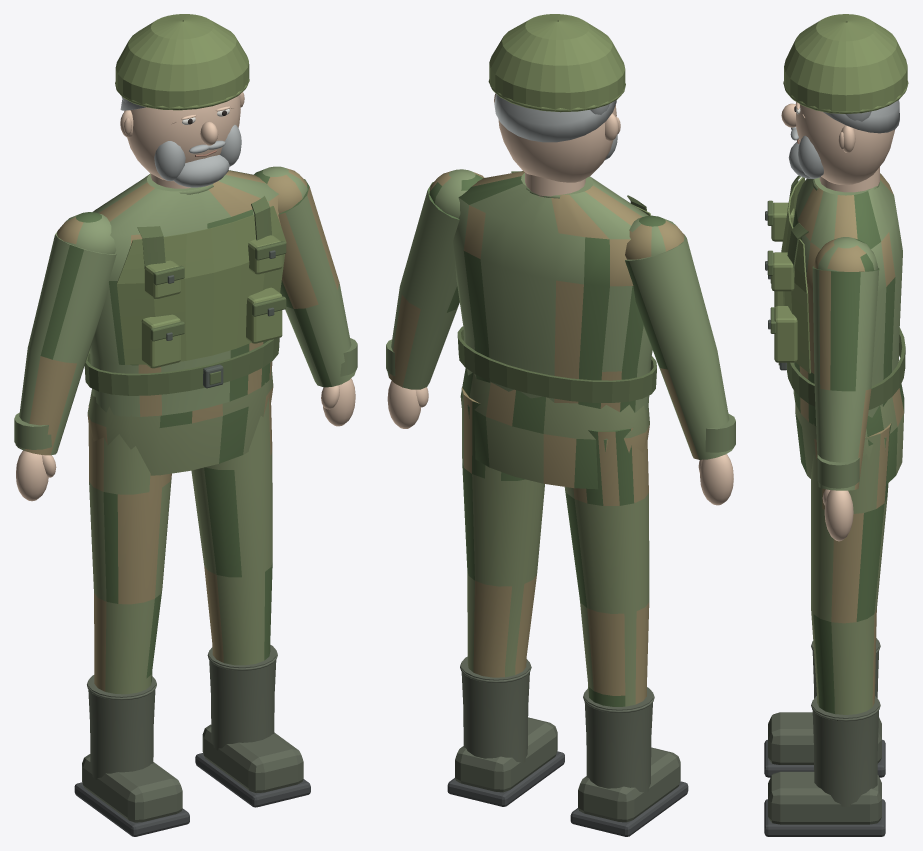
The model's file is soldier_woodland_3.glb.
The picture shows the model from 3 angles, left to right: view 1: azimuth 30°, elevation 25°; view 2: azimuth 150°, elevation 25°; view 3: azimuth 270°, elevation 25°; orthographic projection.
Parts seen in each view (by area): view 1: Woodland_Soldier_3_Trouser_Leg, Woodland_Soldier_3_Trouser_Leg.001, Woodland_Soldier_3_Torso_And_Main_Clothes, Woodland_Soldier_3_Fitted_Field_Vest, Woodland_Soldier_3_Long_Sleeve, Woodland_Soldier_3_Open_Face_Helmet, Woodland_Soldier_3_Connected_Hip_Garment, Woodland_Soldier_3_Long_Sleeve.001, Woodland_Soldier_3_High_Boot_Shaft, Woodland_Soldier_3_High_Boot_Shaft.001, Woodland_Soldier_3_Head, Woodland_Soldier_3_Shoe_Upper.001 (+17 smaller); view 2: Woodland_Soldier_3_Torso_And_Main_Clothes, Woodland_Soldier_3_Trouser_Leg, Woodland_Soldier_3_Trouser_Leg.001, Woodland_Soldier_3_Connected_Hip_Garment, Woodland_Soldier_3_Long_Sleeve, Woodland_Soldier_3_Open_Face_Helmet, Woodland_Soldier_3_Long_Sleeve.001, Woodland_Soldier_3_High_Boot_Shaft, Woodland_Soldier_3_High_Boot_Shaft.001, Woodland_Soldier_3_Waist_Belt, Woodland_Soldier_3_Head, Woodland_Soldier_3_Shoe_Upper.001 (+10 smaller); view 3: Woodland_Soldier_3_Trouser_Leg.001, Woodland_Soldier_3_Long_Sleeve.001, Woodland_Soldier_3_Torso_And_Main_Clothes, Woodland_Soldier_3_Open_Face_Helmet, Woodland_Soldier_3_High_Boot_Shaft.001, Woodland_Soldier_3_Shoe_Upper.001, Woodland_Soldier_3_Head, Woodland_Soldier_3_Connected_Hip_Garment, Woodland_Soldier_3_Shoe_Upper, Woodland_Soldier_3_Fitted_Field_Vest, Woodland_Soldier_3_Shoe_Sole.001, Woodland_Soldier_3_Rounded_Shoulder_Cloth.001 (+16 smaller).
Boxes of the visible parts, box(x1,y1,x2,y2) form: Woodland_Soldier_3_Trouser_Leg: box(88, 405, 171, 694); Woodland_Soldier_3_Trouser_Leg.001: box(191, 397, 272, 665); Woodland_Soldier_3_Torso_And_Main_Clothes: box(89, 170, 280, 416); Woodland_Soldier_3_Fitted_Field_Vest: box(117, 206, 286, 364); Woodland_Soldier_3_Long_Sleeve: box(15, 232, 116, 455); Woodland_Soldier_3_Open_Face_Helmet: box(115, 14, 249, 109); Woodland_Soldier_3_Connected_Hip_Garment: box(87, 368, 273, 475); Woodland_Soldier_3_Long_Sleeve.001: box(278, 179, 355, 387); Woodland_Soldier_3_High_Boot_Shaft: box(88, 675, 155, 779); Woodland_Soldier_3_High_Boot_Shaft.001: box(209, 645, 276, 750); Woodland_Soldier_3_Head: box(124, 95, 240, 181); Woodland_Soldier_3_Shoe_Upper.001: box(202, 724, 303, 792); Woodland_Soldier_3_Torso_And_Main_Clothes: box(453, 171, 652, 412); Woodland_Soldier_3_Trouser_Leg: box(564, 427, 649, 706); Woodland_Soldier_3_Trouser_Leg.001: box(461, 387, 544, 677); Woodland_Soldier_3_Connected_Hip_Garment: box(460, 368, 649, 489); Woodland_Soldier_3_Long_Sleeve: box(625, 234, 733, 459); Woodland_Soldier_3_Open_Face_Helmet: box(489, 14, 625, 110); Woodland_Soldier_3_Long_Sleeve.001: box(387, 182, 459, 389); Woodland_Soldier_3_High_Boot_Shaft: box(584, 687, 653, 794); Woodland_Soldier_3_High_Boot_Shaft.001: box(461, 656, 530, 764); Woodland_Soldier_3_Waist_Belt: box(457, 326, 656, 402); Woodland_Soldier_3_Head: box(498, 105, 616, 182); Woodland_Soldier_3_Shoe_Upper.001: box(455, 717, 557, 792); Woodland_Soldier_3_Trouser_Leg.001: box(811, 423, 891, 714); Woodland_Soldier_3_Long_Sleeve.001: box(812, 266, 879, 490); Woodland_Soldier_3_Torso_And_Main_Clothes: box(792, 173, 902, 426); Woodland_Soldier_3_Open_Face_Helmet: box(784, 14, 907, 112); Woodland_Soldier_3_High_Boot_Shaft.001: box(812, 696, 879, 806); Woodland_Soldier_3_Shoe_Upper.001: box(768, 771, 881, 824); Woodland_Soldier_3_Head: box(795, 102, 895, 185); Woodland_Soldier_3_Connected_Hip_Garment: box(795, 384, 904, 484); Woodland_Soldier_3_Shoe_Upper: box(768, 712, 881, 764); Woodland_Soldier_3_Fitted_Field_Vest: box(781, 177, 810, 373); Woodland_Soldier_3_Shoe_Sole.001: box(764, 799, 885, 836); Woodland_Soldier_3_Rounded_Shoulder_Cloth.001: box(813, 237, 878, 271).
Bounding box in the file's own units: 0.8077 × 1.75 × 0.2958.
